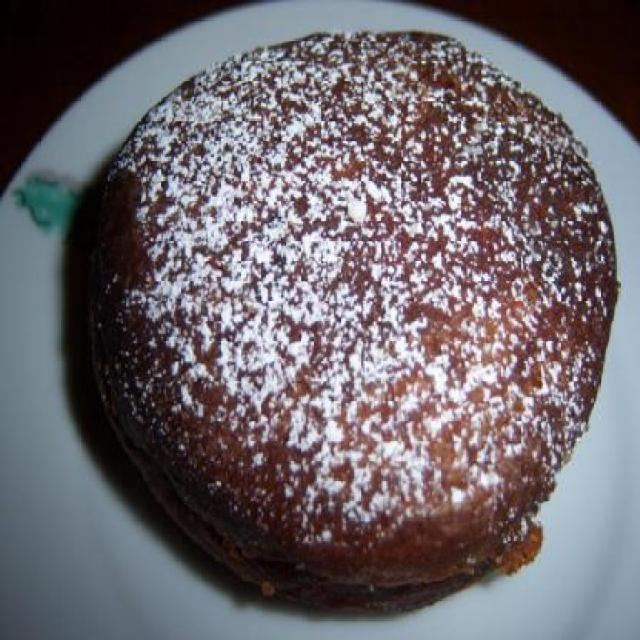Apple pie: (32, 19, 636, 623)
